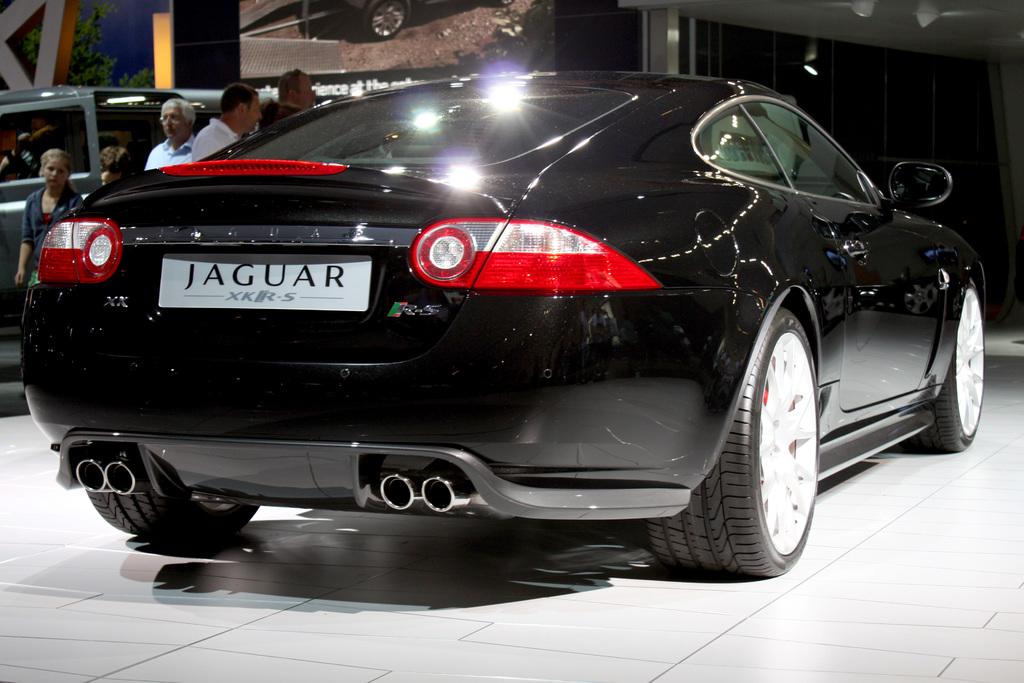Person: (13, 148, 84, 287), (189, 80, 262, 156), (138, 99, 196, 170), (260, 64, 316, 130), (0, 128, 56, 181), (97, 142, 132, 189)
